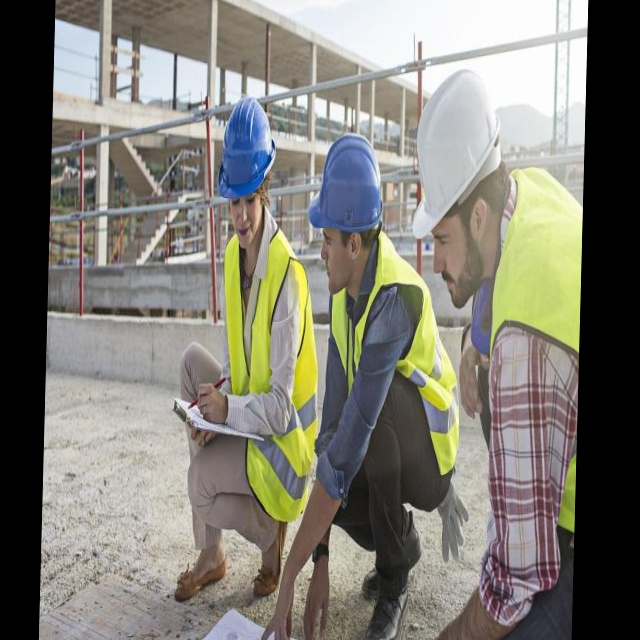Con_Casco: (412, 67, 502, 299), (216, 98, 277, 228)
Con_Chaleco: (482, 162, 584, 566), (214, 227, 318, 519)
